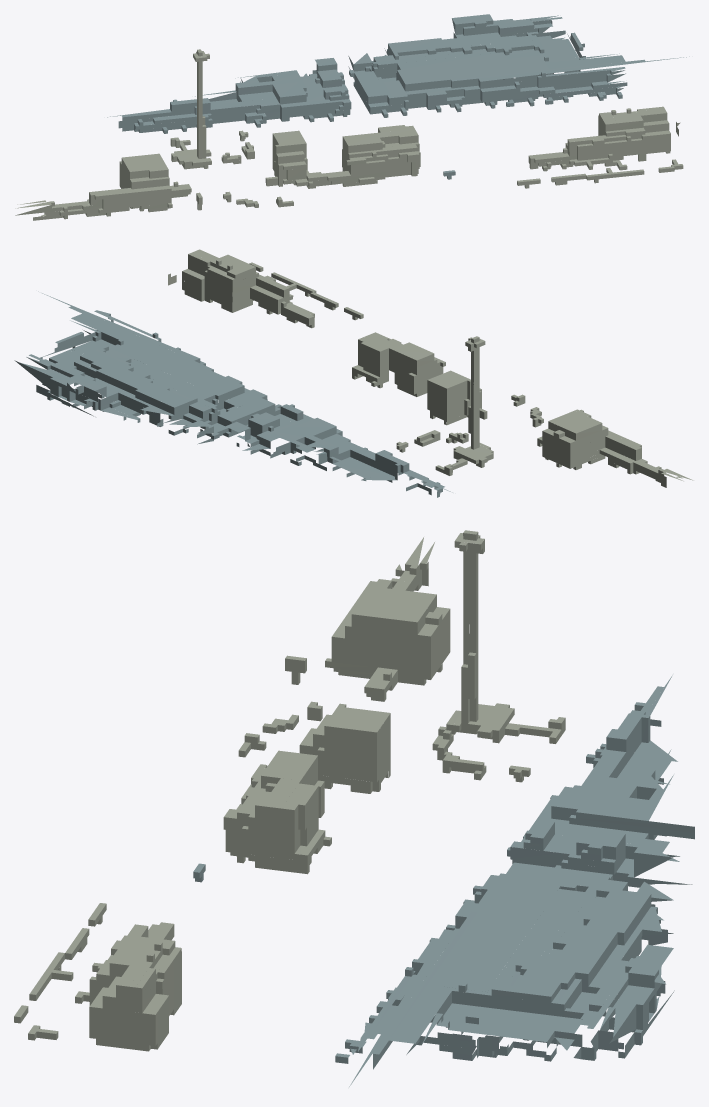
The picture shows the model from 3 angles, top to bottom: view 1: azimuth 30°, elevation 25°; view 2: azimuth 150°, elevation 25°; view 3: azimuth 270°, elevation 25°; orthographic projection. The views are drawn at different scales.
Parts seen in each view (by area): view 1: measured-industrial; view 2: measured-industrial; view 3: measured-industrial.
Boxes of the visible parts, <box> form: measured-industrial: <box>15,14,689,220</box>; measured-industrial: <box>14,249,693,497</box>; measured-industrial: <box>14,530,694,1086</box>.
Bounding box in the file's own units: 292 × 48.06 × 148.
